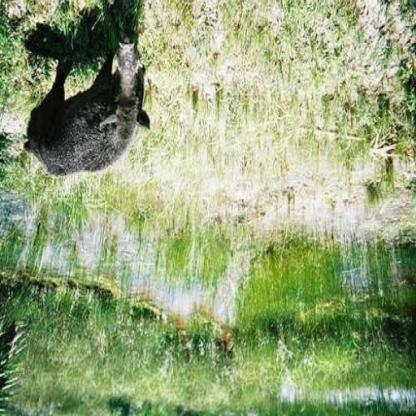boar: (4, 3, 194, 209)
